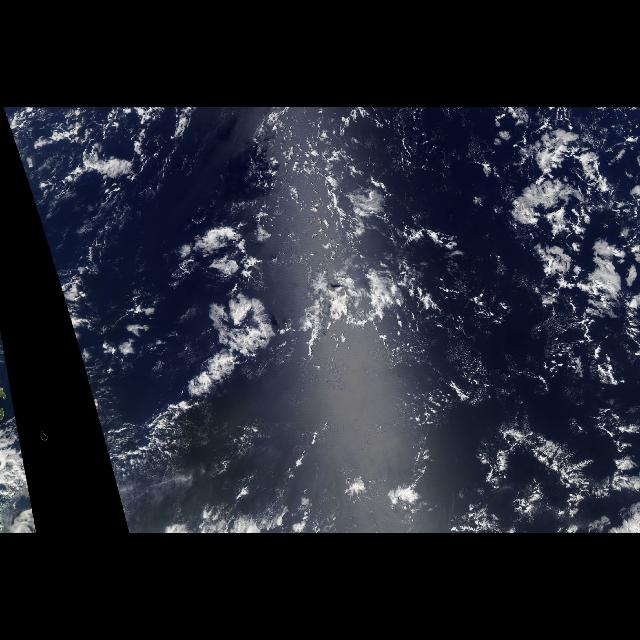Sugar: (382, 336, 538, 449)
